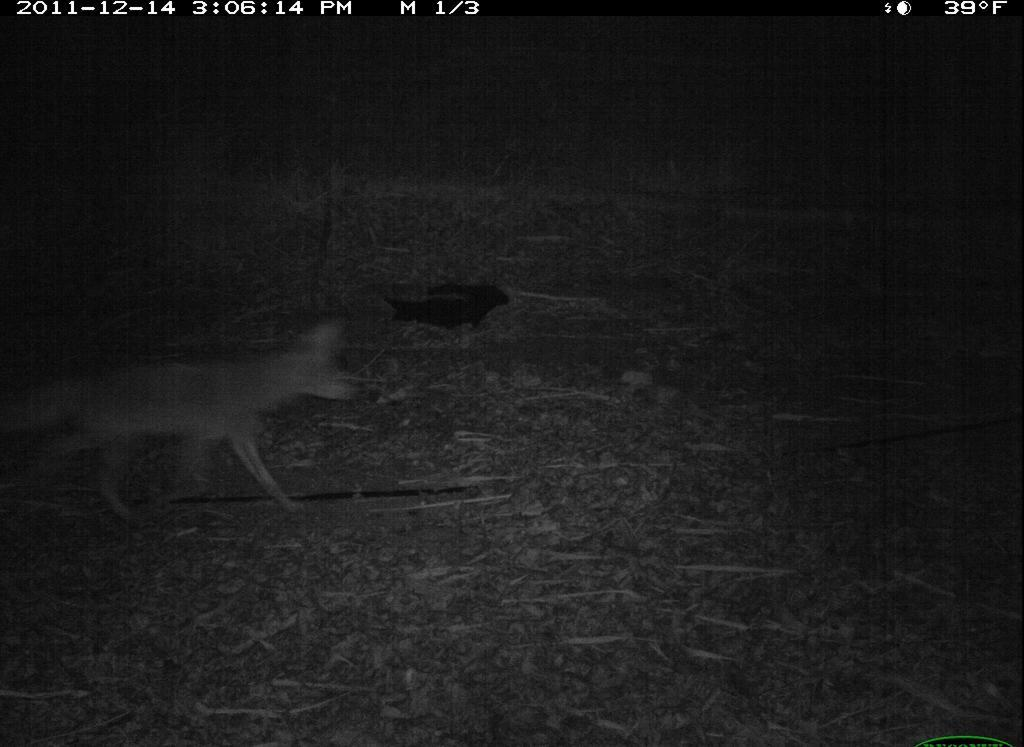coyote: (18, 306, 361, 555)
